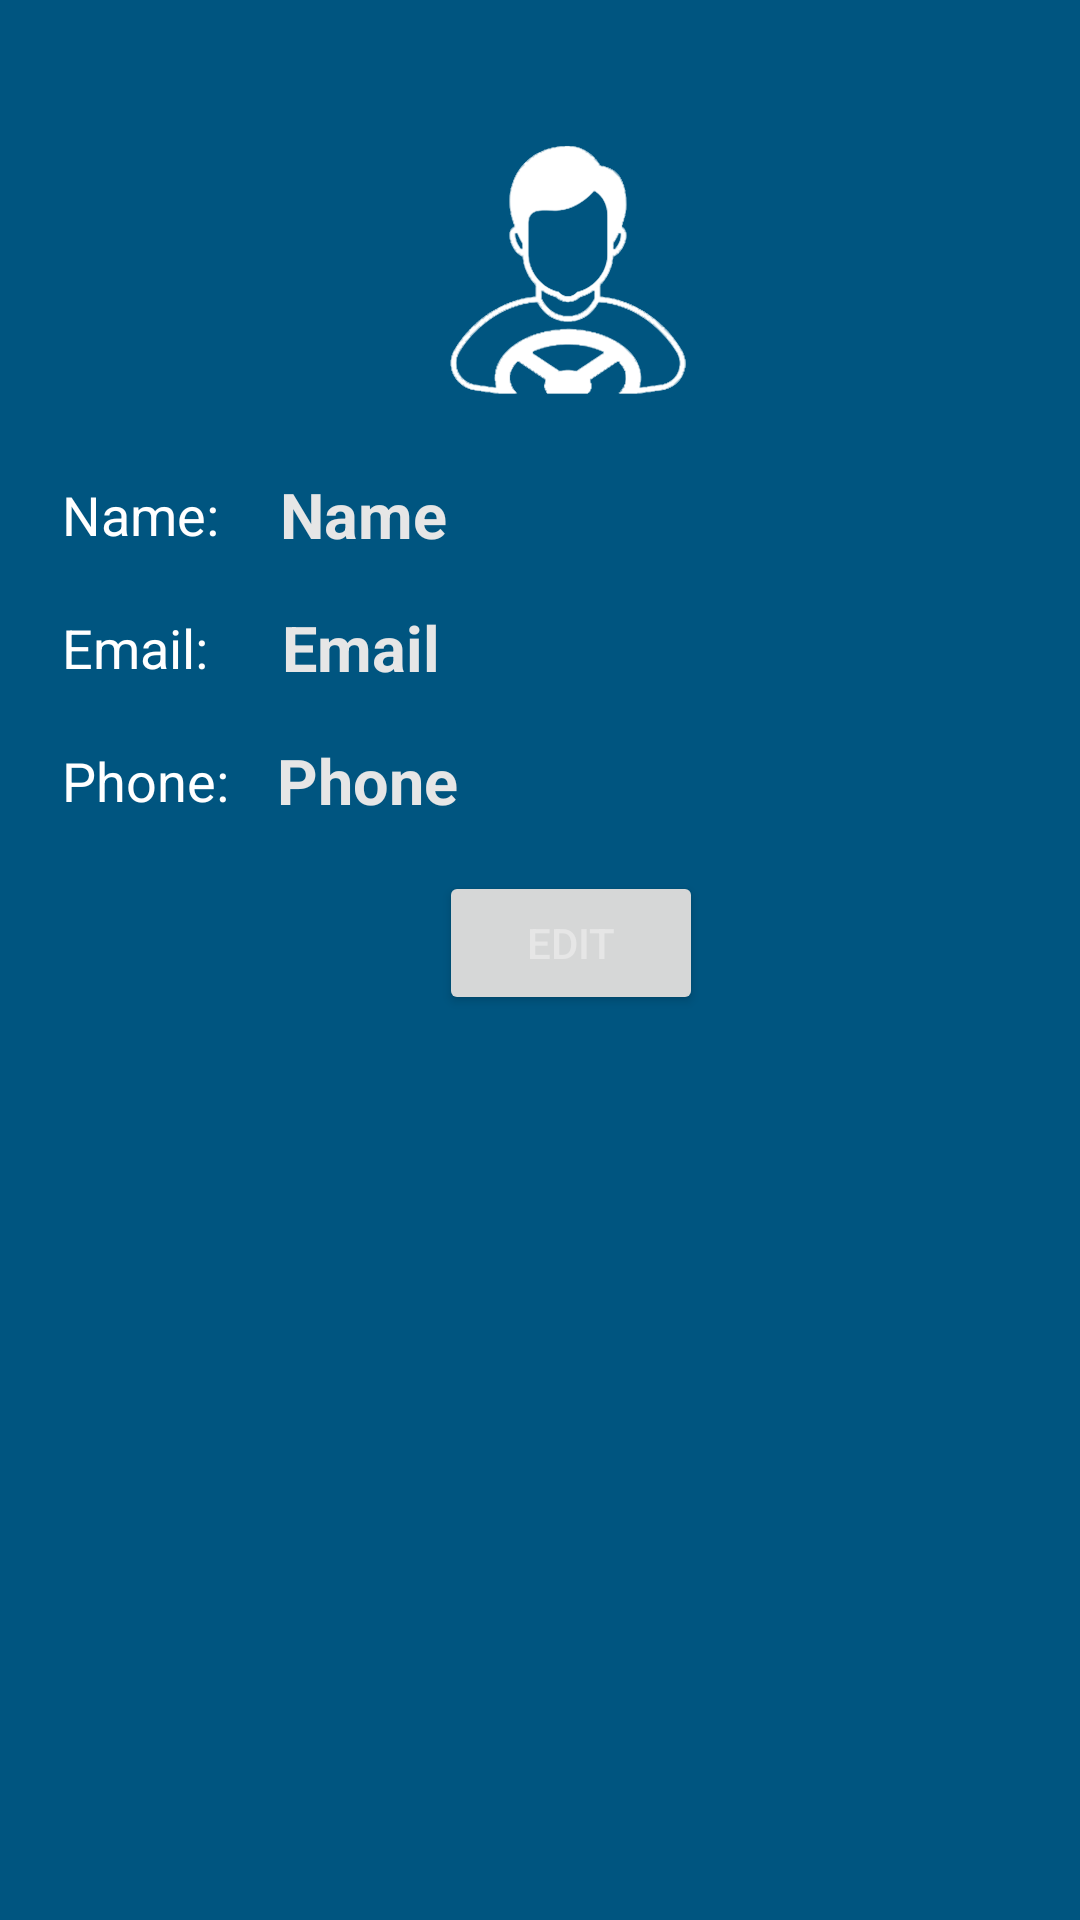

Point at icon controls on the screen. Image size 1080 x 1920, points as (x,y).
seedriver: (568,270)
